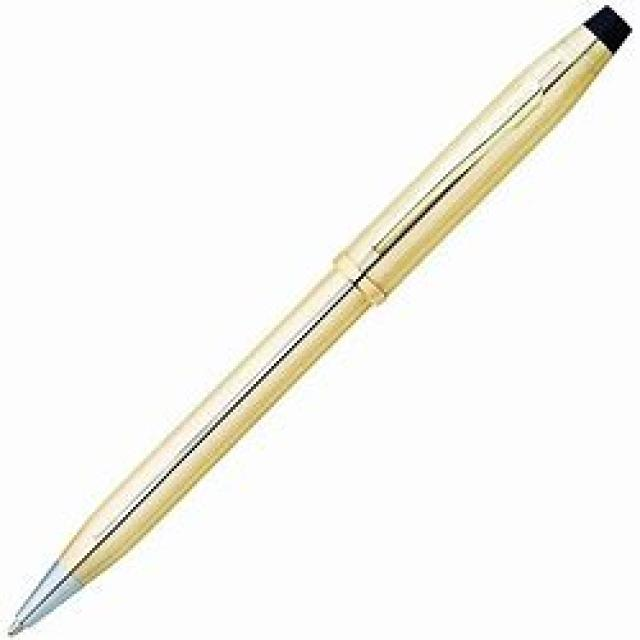pen: (0, 2, 629, 640)
